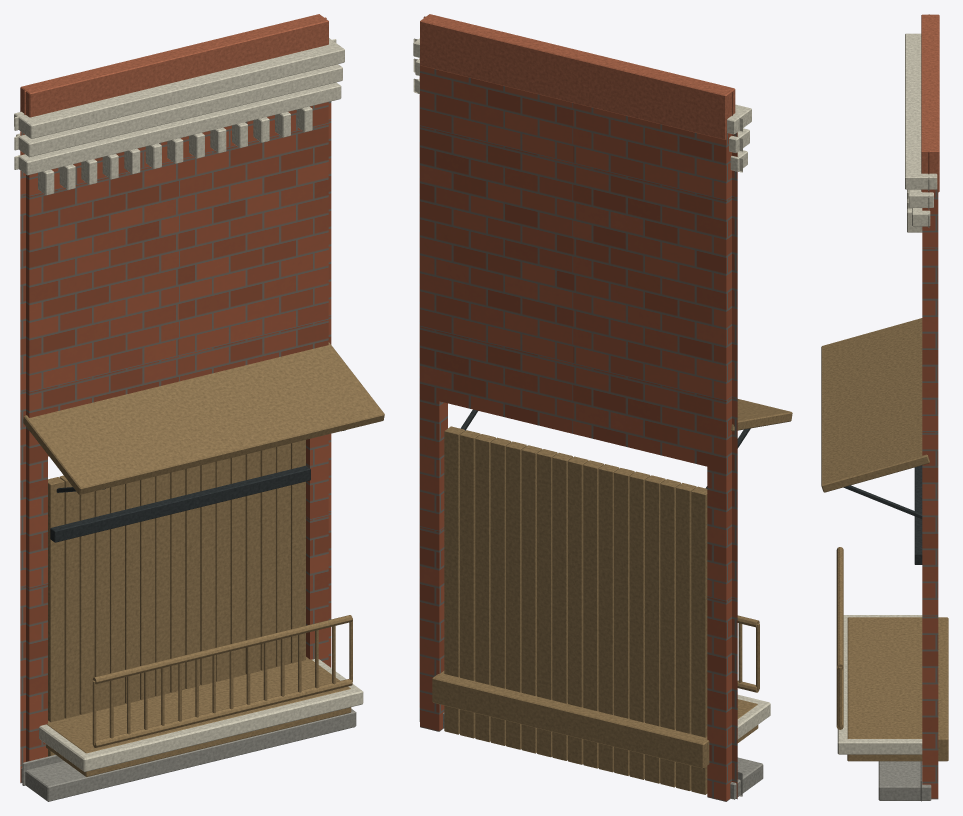
Rendered from WHSE23_lod1.glb.
The picture shows the model from 3 angles, left to right: view 1: azimuth 30°, elevation 25°; view 2: azimuth 150°, elevation 25°; view 3: azimuth 270°, elevation 25°; orthographic projection. The views are drawn at different scales.
Parts seen in each view (by area): view 1: WHSE23_FRONT_LOD1; view 2: WHSE23_FRONT_LOD1; view 3: WHSE23_FRONT_LOD1.
Boxes of the visible parts, bbox=[...] form: WHSE23_FRONT_LOD1: bbox=[14, 14, 384, 801]; WHSE23_FRONT_LOD1: bbox=[413, 14, 792, 801]; WHSE23_FRONT_LOD1: bbox=[821, 14, 948, 801].
Size of the model in its own units: 3.44 by 7.05 by 1.26.
7 materials, 7 textured.
